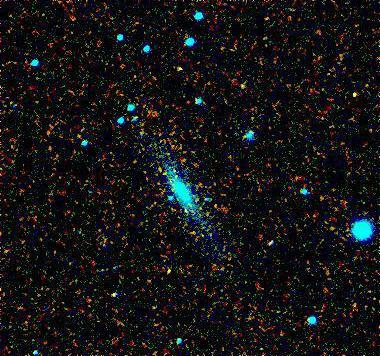star: (138, 288, 168, 318)
